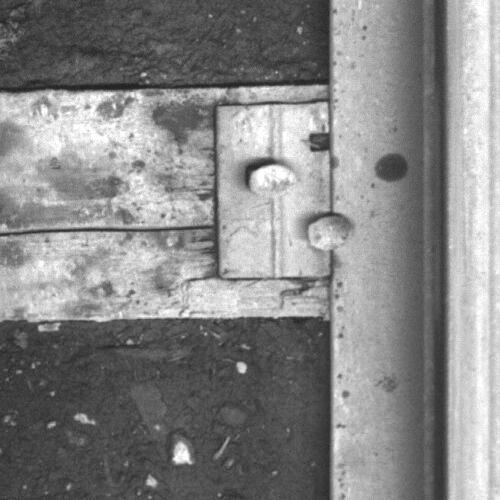do: (214, 99, 354, 279)
hole_do: (300, 120, 343, 162)
rail: (447, 1, 500, 500)
tie_wood: (1, 91, 332, 322)
wood_crack: (1, 219, 216, 243)
